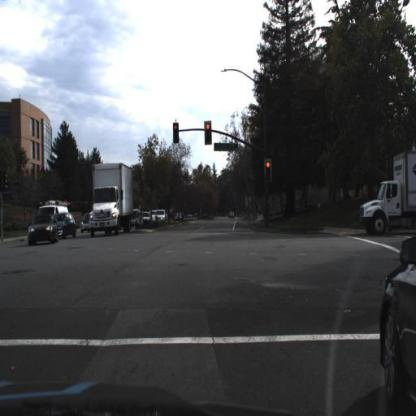car: (376, 221, 416, 416), (375, 227, 413, 406), (26, 211, 60, 248), (37, 201, 71, 222), (138, 212, 155, 227), (153, 209, 168, 224)
trafficLight-Red: (263, 159, 275, 188), (204, 120, 214, 147)
trafficLight-RedLeft: (173, 121, 182, 147)
truck: (359, 149, 415, 234), (85, 160, 137, 243)
